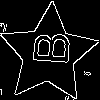B: (24, 29, 71, 66)
